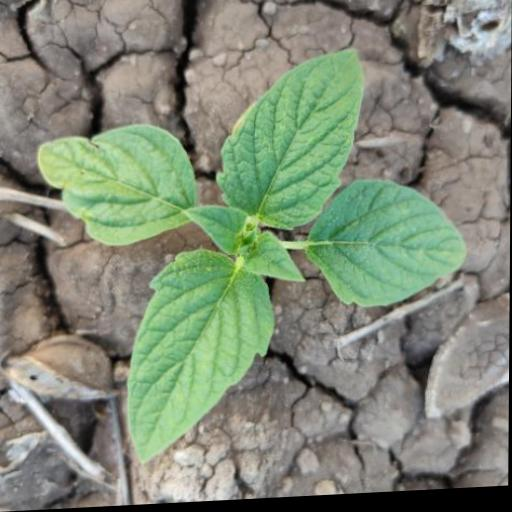crop: (43, 45, 466, 470)
